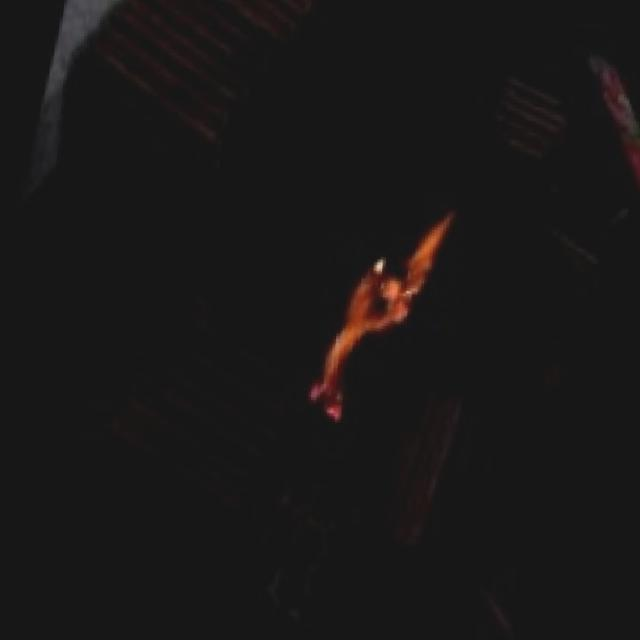fire: (253, 154, 482, 477)
